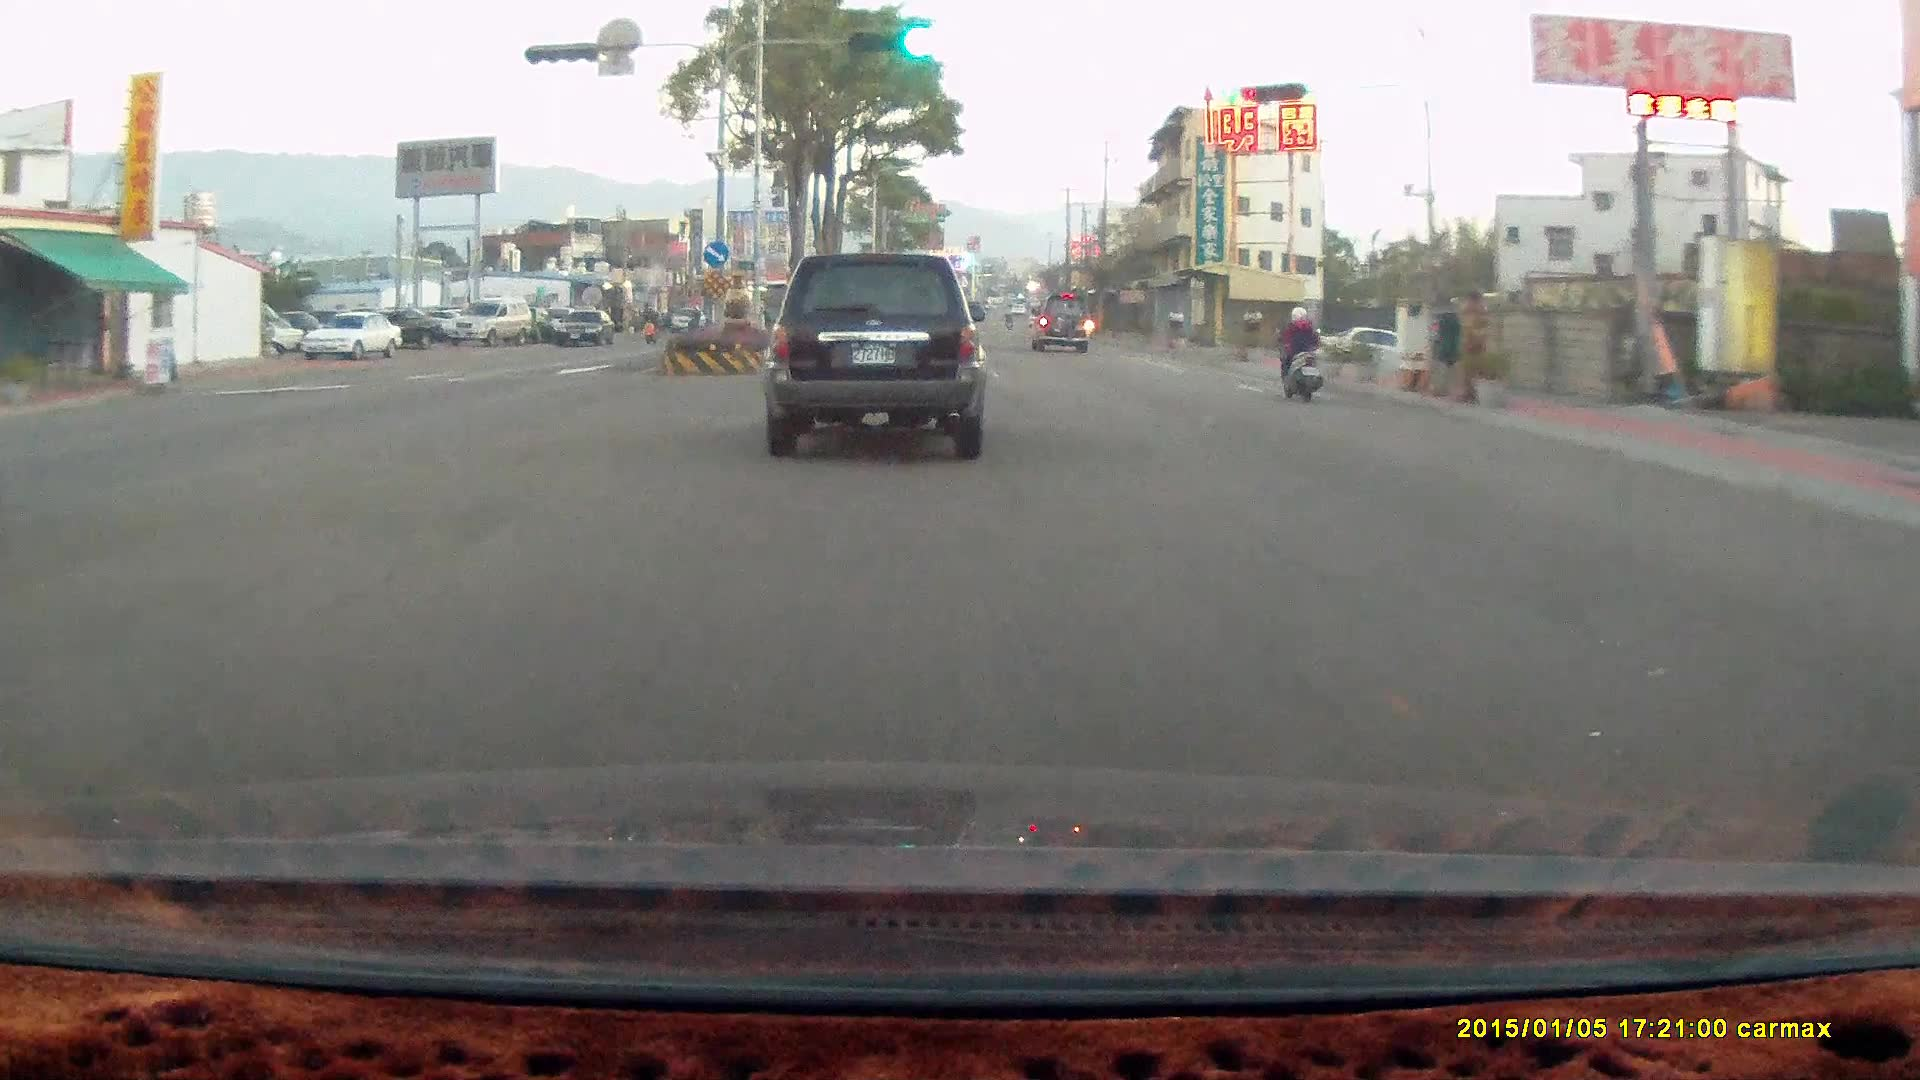rider: (1265, 296, 1336, 409), (1271, 302, 1321, 401)
vehicle: (771, 254, 998, 464), (764, 251, 987, 457), (301, 310, 402, 361), (1317, 324, 1421, 374), (307, 316, 407, 368), (445, 296, 535, 347), (444, 294, 533, 345), (1033, 295, 1093, 359), (1027, 294, 1090, 353), (356, 309, 441, 350), (556, 309, 617, 348)
